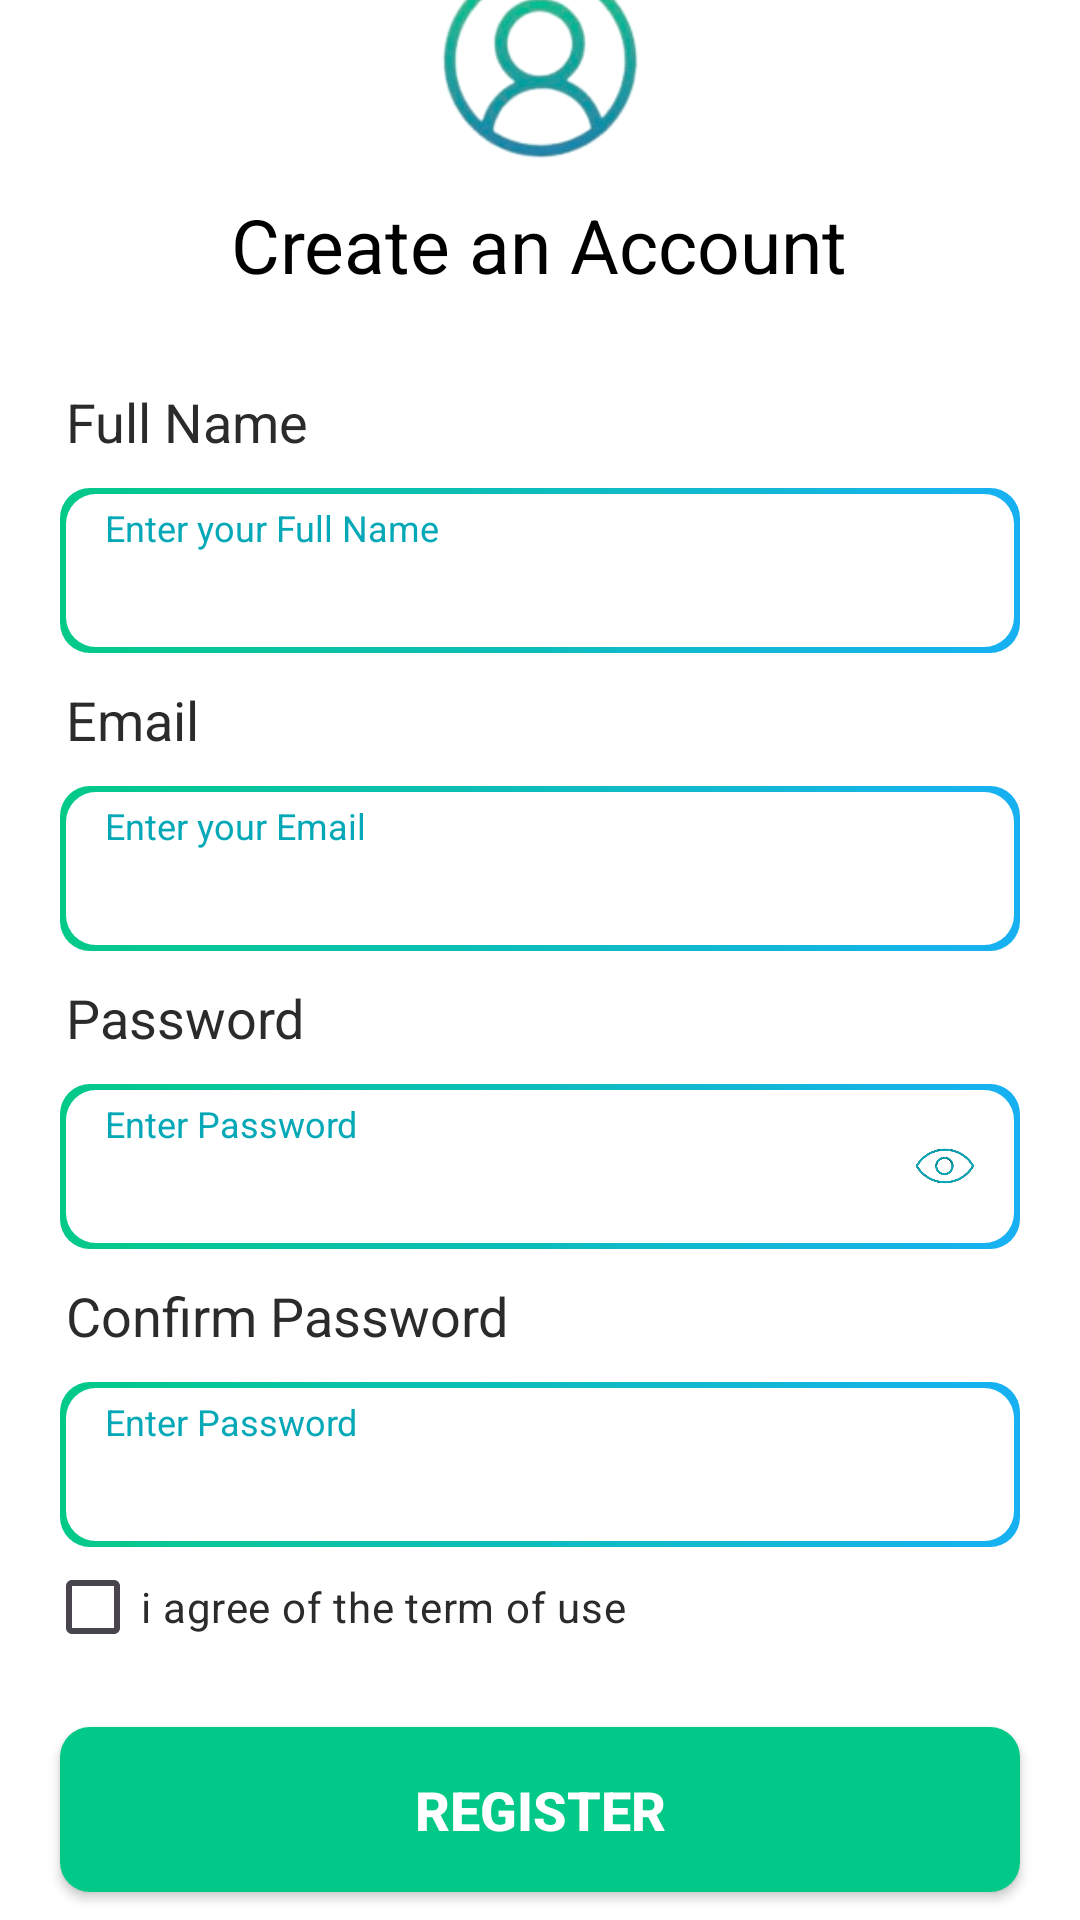

Screen size 1080×1920. Icon name, then its center in pixels as (x=x, y=y):
show pass: (x=945, y=1165)
